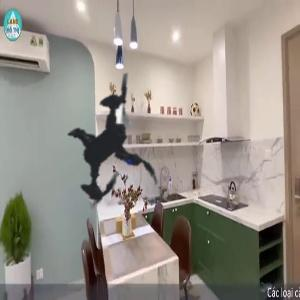drone: (6, 33, 226, 253)
